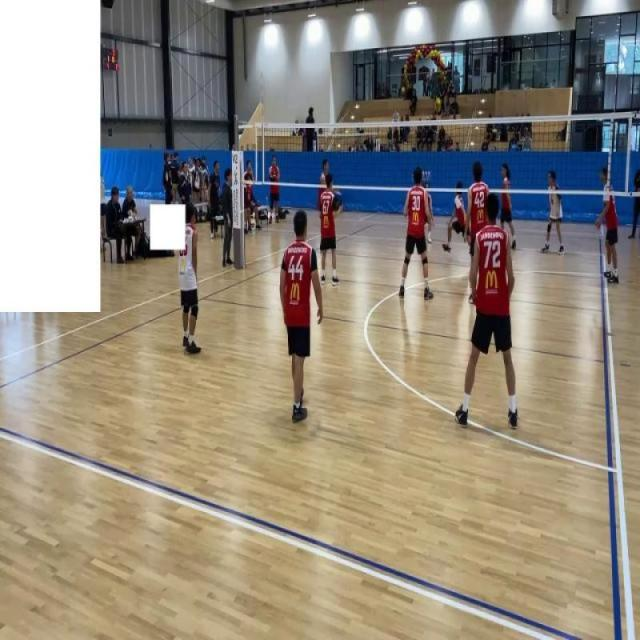volleyball: (433, 97, 442, 113), (400, 85, 406, 95)
